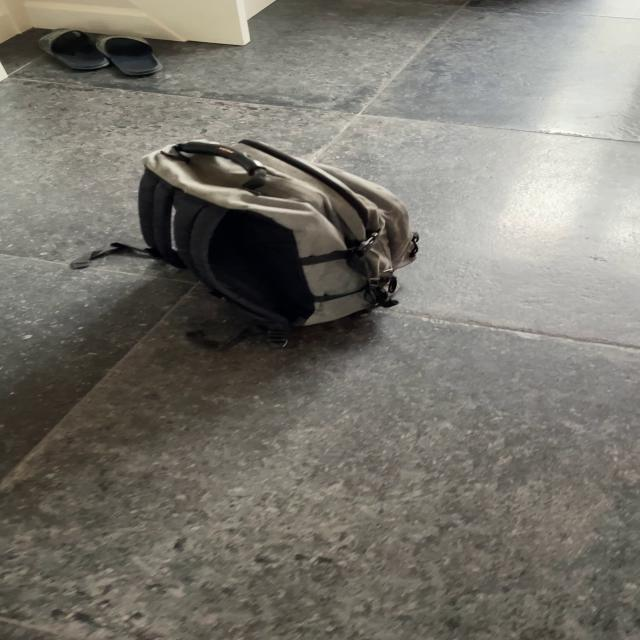backpack: (119, 133, 432, 347)
